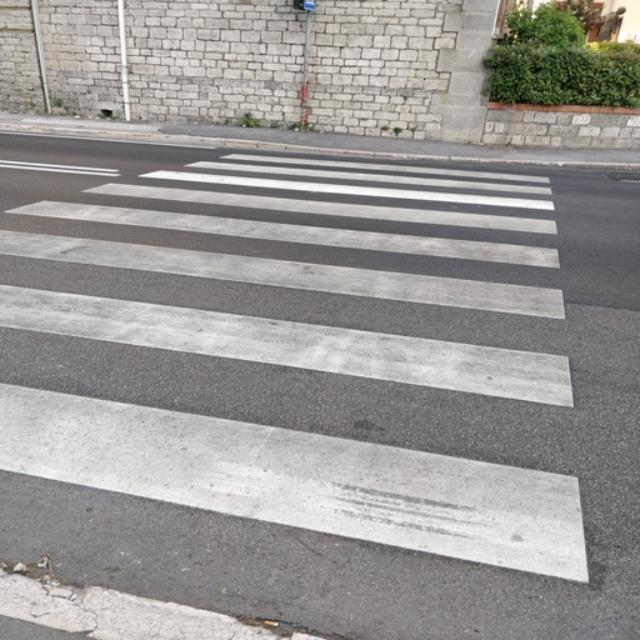sidewalk: (0, 151, 595, 640)
